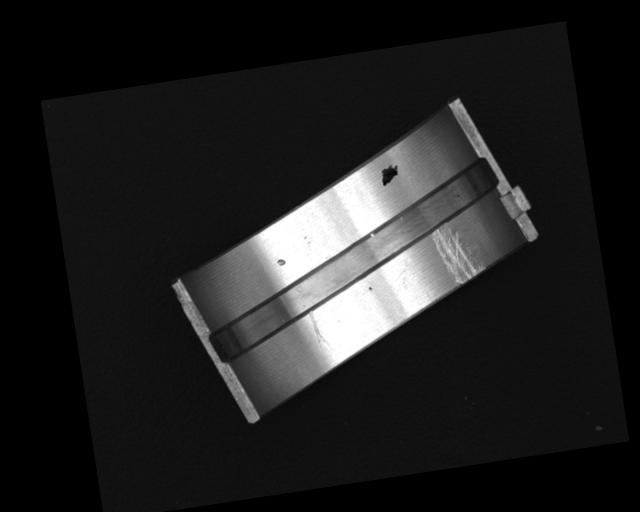blot: (378, 163, 402, 187)
bruise: (276, 258, 286, 267), (368, 284, 373, 291)
gap: (187, 156, 516, 366)
nick: (308, 308, 331, 351)
scratch: (431, 221, 487, 286)
